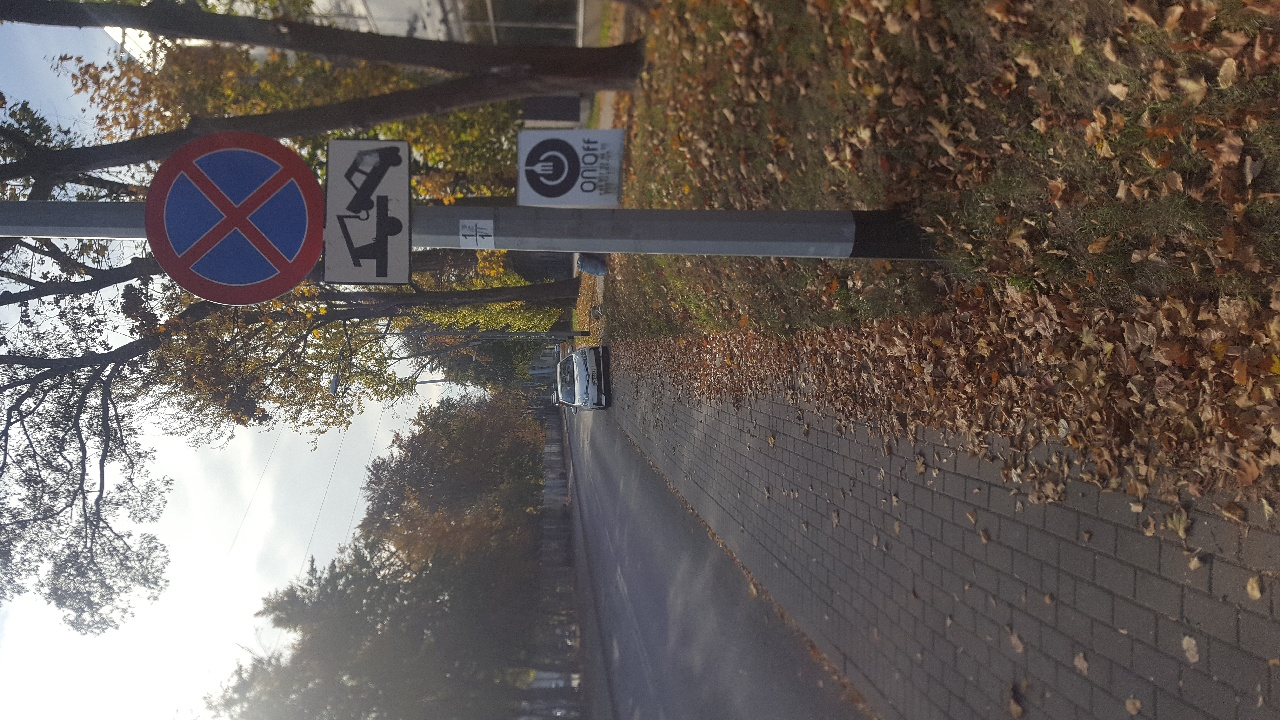B35: (137, 123, 322, 298)
